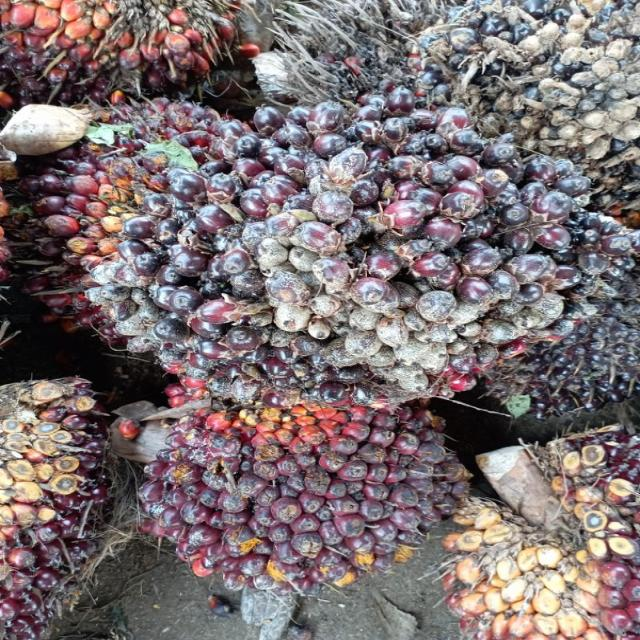fraksi 00: (132, 103, 604, 388)
fraksi 1: (127, 368, 470, 585)
